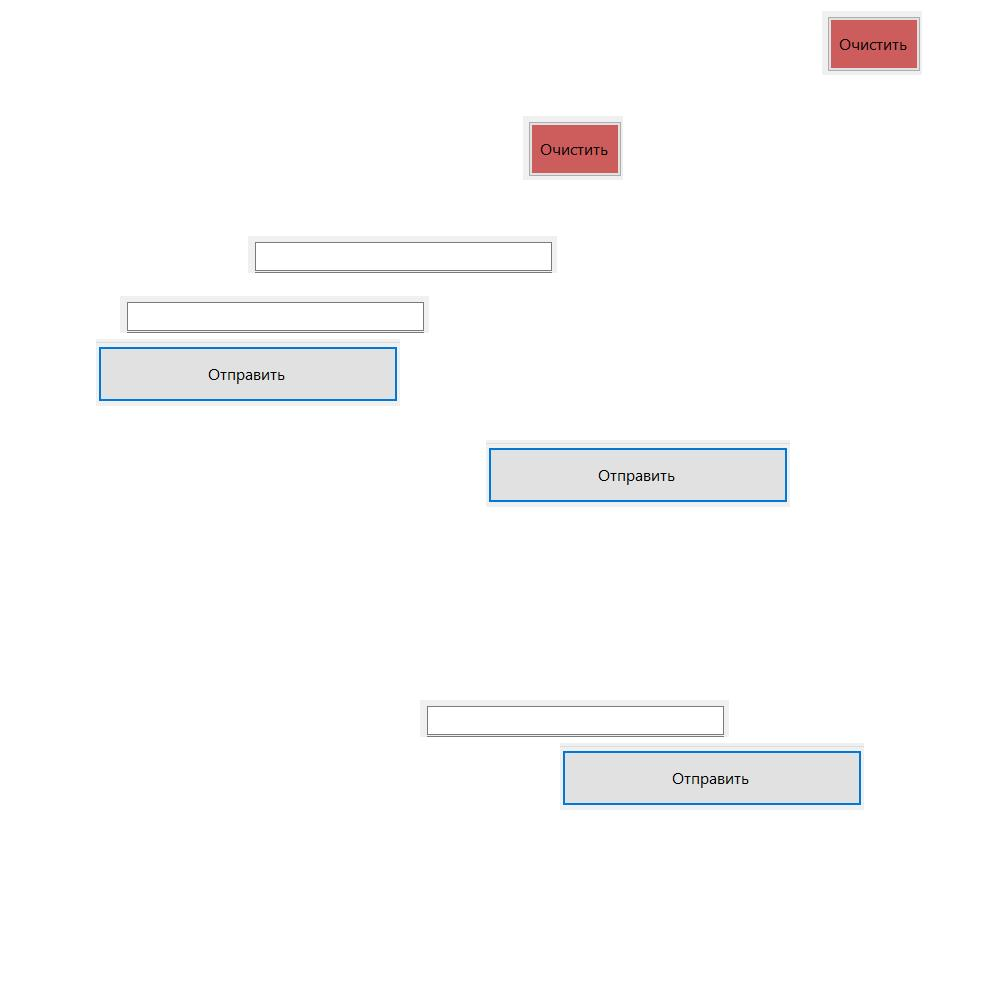Button: (560, 743, 864, 810), (96, 339, 400, 406), (486, 440, 790, 507), (822, 11, 922, 75), (523, 116, 623, 180)
EditText-: (120, 296, 429, 333), (420, 700, 729, 737), (248, 236, 557, 273)
